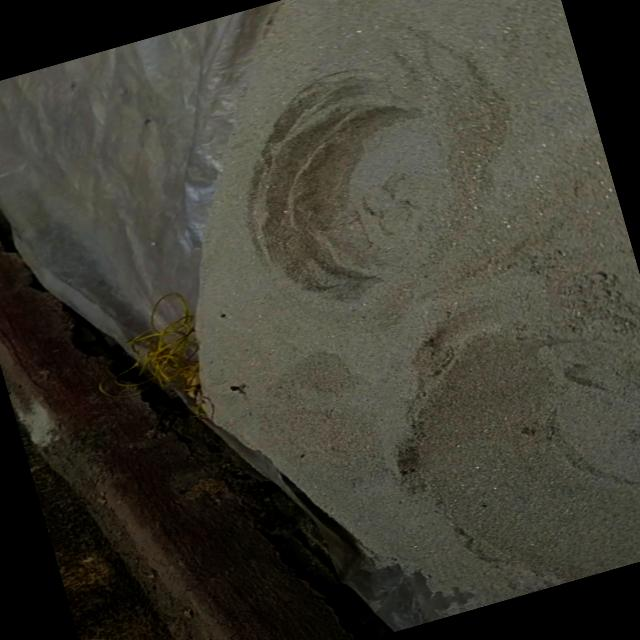C20: (401, 284, 640, 593), (259, 90, 447, 291)
